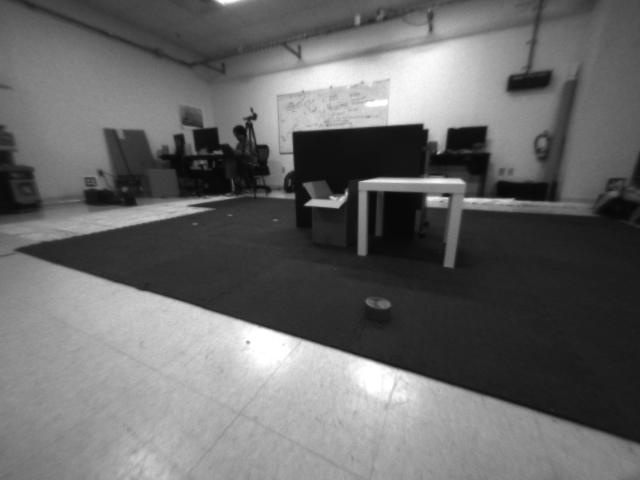dogtoy: (346, 283, 412, 342)
